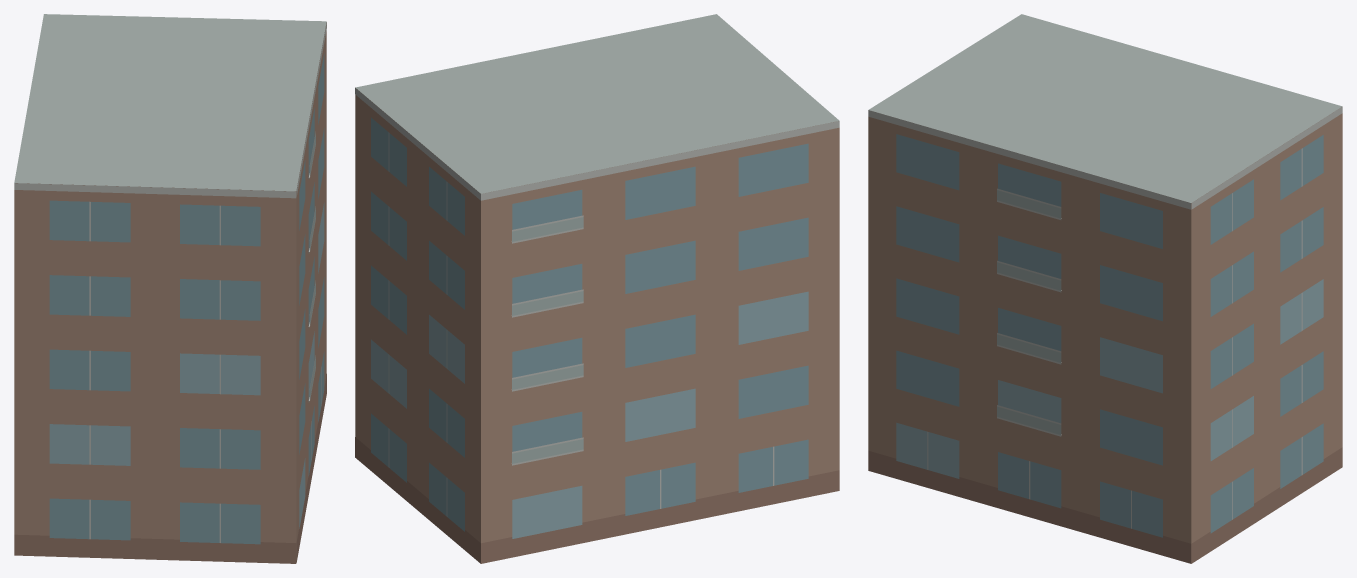
Rendered from survey-upis-32872863.glb.
3 views of the same model, side by side, from view 1: azimuth 30°, elevation 25°; view 2: azimuth 150°, elevation 25°; view 3: azimuth 270°, elevation 25° (orthographic). The views are drawn at different scales.
Visible parts, largest first — view 1: survey-upis-32872863.tmp; view 2: survey-upis-32872863.tmp; view 3: survey-upis-32872863.tmp.
Boxes of the visible parts, x1,y1,x2,y2 form: survey-upis-32872863.tmp: (14, 14, 326, 563); survey-upis-32872863.tmp: (355, 14, 839, 563); survey-upis-32872863.tmp: (868, 14, 1342, 563).
Size of the model in its own units: 14.85 by 13.2 by 15.74.
